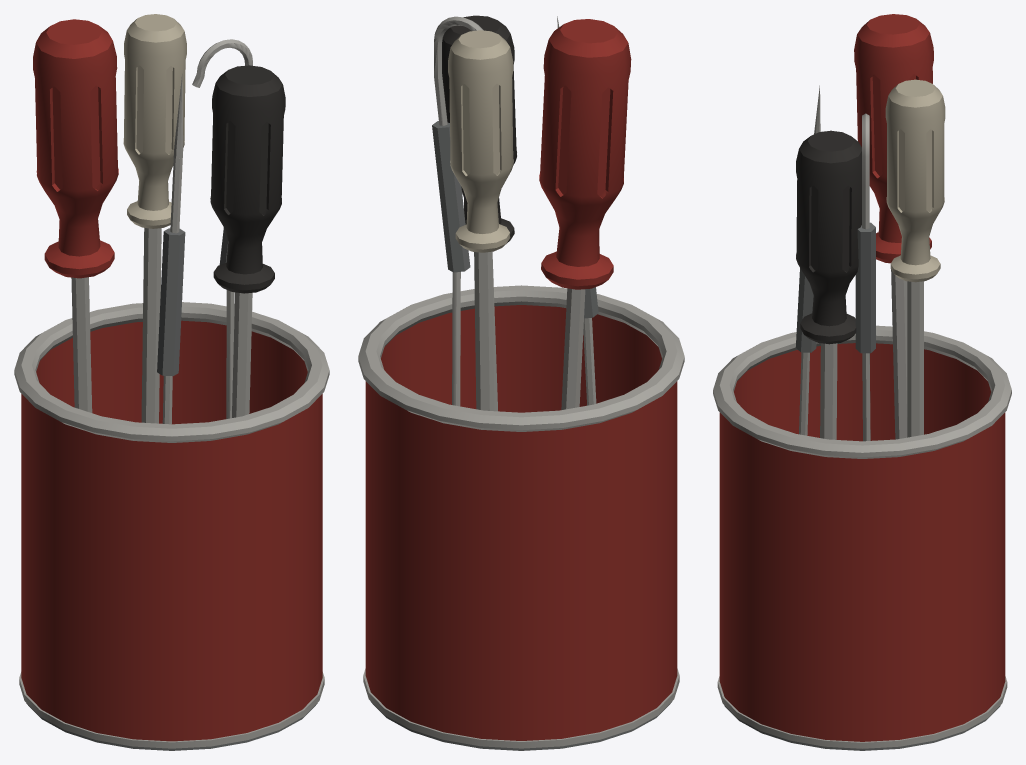
File: repair-tool-cup-5302326ff3b6.glb
The picture shows the model from 3 angles, left to right: view 1: azimuth 30°, elevation 25°; view 2: azimuth 150°, elevation 25°; view 3: azimuth 270°, elevation 25°; orthographic projection. The views are drawn at different scales.
Visible parts, largest first — view 1: enamel-red, brushed, plastic-dark, plastic-light, metal; view 2: enamel-red, brushed, plastic-light, metal, plastic-dark; view 3: enamel-red, brushed, plastic-dark, plastic-light, metal.
Boxes of the visible parts, box(x1,y1,x2,y2) form: enamel-red: box(21, 19, 322, 741); brushed: box(14, 39, 329, 748); plastic-dark: box(210, 65, 285, 293); plastic-light: box(123, 14, 186, 228); metal: box(26, 227, 317, 750); enamel-red: box(365, 19, 677, 740); brushed: box(358, 16, 684, 748); plastic-light: box(448, 30, 513, 252); metal: box(370, 121, 672, 750); plastic-dark: box(442, 15, 516, 243); enamel-red: box(719, 14, 1005, 741); brushed: box(713, 85, 1011, 748); plastic-dark: box(796, 130, 861, 344); plastic-light: box(885, 79, 945, 282); metal: box(724, 222, 1000, 750).
Bounding box in the file's own units: 0.09 × 0.2093 × 0.09.
